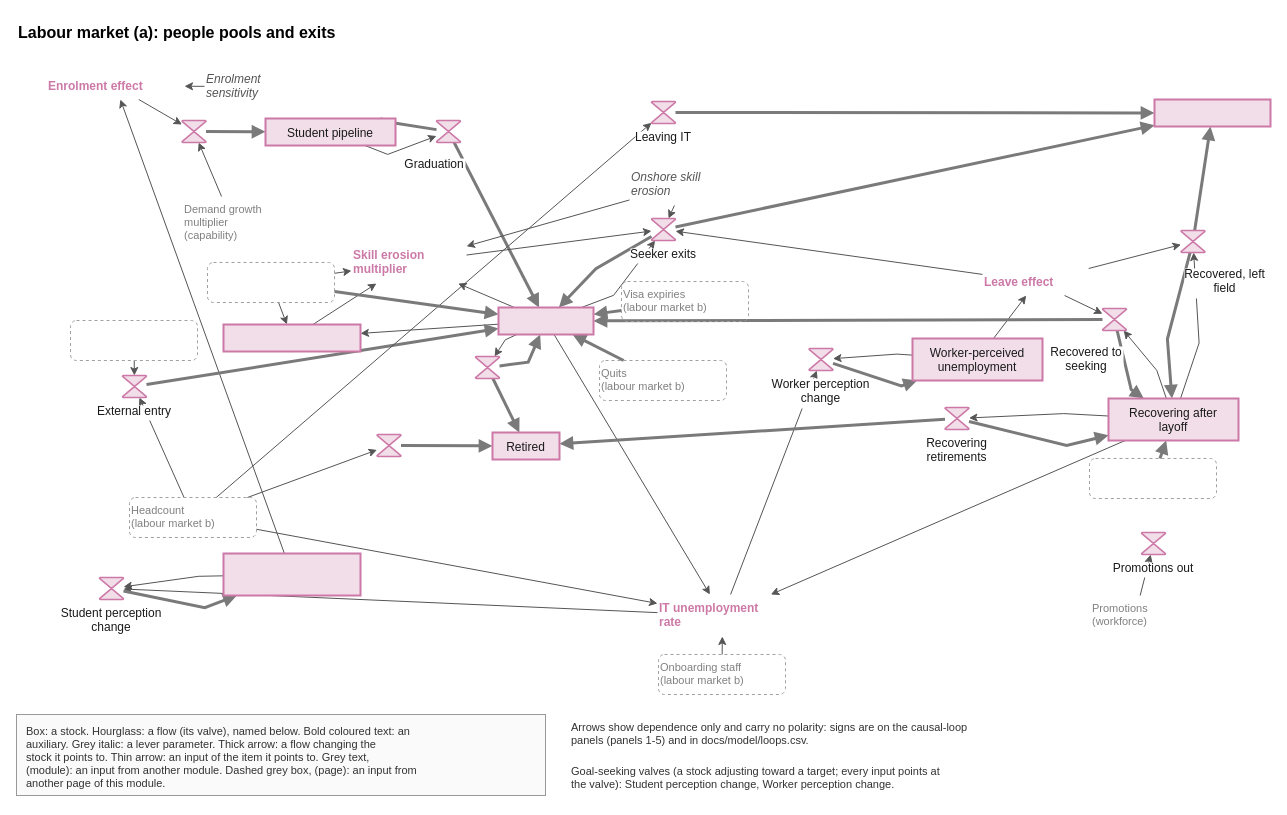
Some shapes in this 1287 by 815 pixel diagram are drawn without their labels. The shapes that lost their labels are listed below. From the top down, each one's box as (x1, y1, x2, y2) in pixels, then its label:
(181, 119, 206, 143): Enrolment
(1153, 98, 1271, 127): Left the field
(206, 262, 334, 302): Hires (labour market b)
(70, 320, 198, 360): Time to fill (labour market b)
(222, 323, 361, 352): 2024 seeker spell
(497, 306, 594, 335): Job seekers
(474, 355, 500, 379): Seeker retirements
(376, 433, 401, 457): Retirements
(1088, 458, 1216, 498): Layoffs (labour market b)
(222, 552, 361, 596): Student-perceived unemployment
